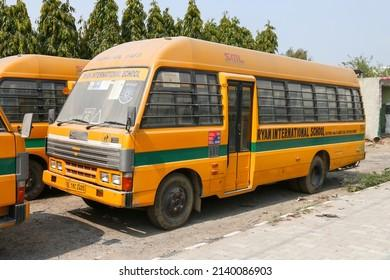bus: (46, 39, 368, 231)
